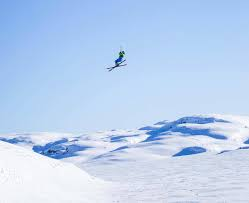skis: (107, 61, 129, 72)
